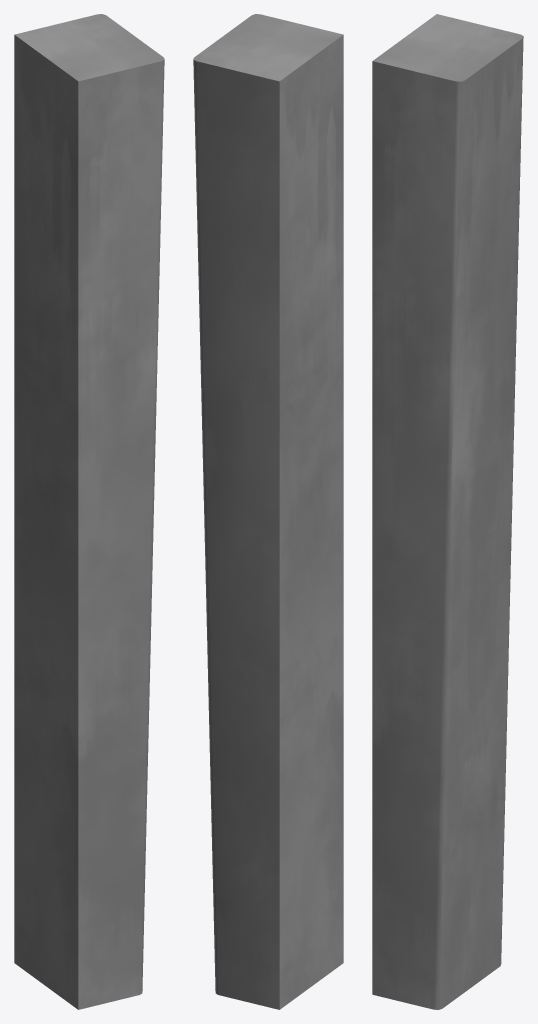
File: Viga_B.fbx
The picture shows the model from 3 angles, left to right: view 1: azimuth 30°, elevation 25°; view 2: azimuth 150°, elevation 25°; view 3: azimuth 330°, elevation 25°; orthographic projection.
Parts seen in each view (by area): view 1: Cube.070; view 2: Cube.070; view 3: Cube.070.
Boxes of the visible parts, x1,y1,x2,y2 form: Cube.070: [14, 14, 164, 1009]; Cube.070: [193, 14, 343, 1009]; Cube.070: [372, 14, 523, 1009].
Size of the model in its own units: 40 by 400 by 50.
